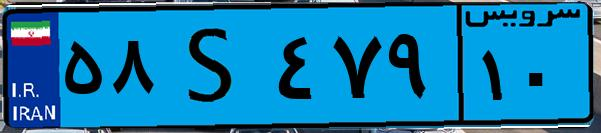0: (525, 38, 570, 115)
1: (475, 38, 525, 113)
4: (270, 28, 330, 110)
5: (57, 26, 110, 100)
7: (330, 28, 385, 110)
8: (110, 28, 158, 98)
9: (385, 28, 445, 110)
S: (158, 12, 270, 120)
